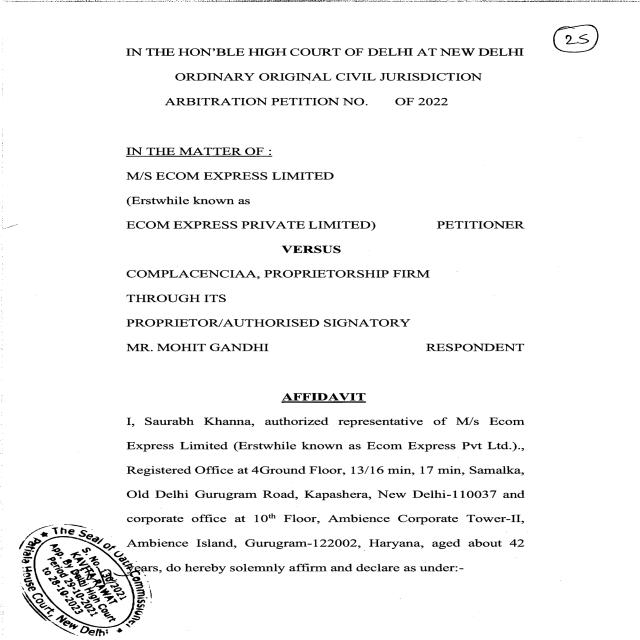page-number: (524, 5, 638, 168)
